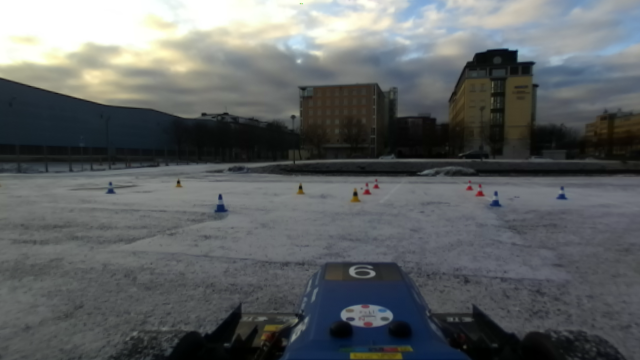blue: (212, 194, 227, 215), (489, 191, 502, 208), (554, 185, 566, 202), (103, 180, 116, 194)
orange: (463, 178, 472, 193), (474, 184, 484, 197)
yellow: (349, 186, 360, 203), (294, 181, 306, 195), (172, 174, 182, 188)
